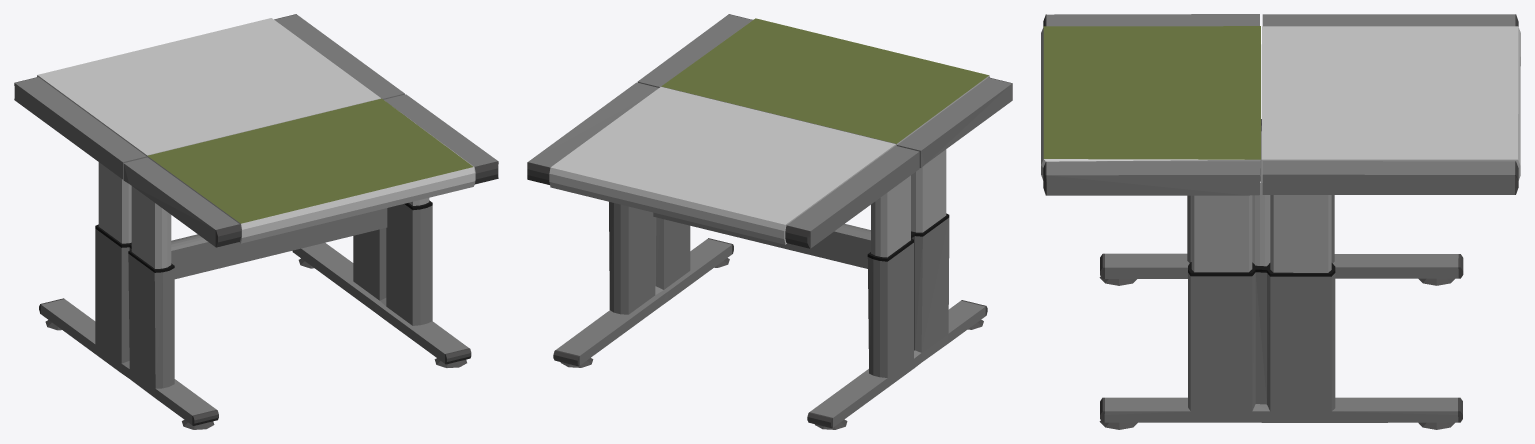
File: technicalTable2.obj
3 renders of one model, left to right at view 1: azimuth 30°, elevation 25°; view 2: azimuth 150°, elevation 25°; view 3: azimuth 270°, elevation 25°, orthographic. The views are drawn at different scales.
Visible parts, largest first — view 1: Print_board_Plane.003; view 2: Print_board_Plane.003; view 3: Print_board_Plane.003.
Boxes of the visible parts, left/top/right/bottom form: Print_board_Plane.003: left=14, top=14, right=498, bottom=429; Print_board_Plane.003: left=527, top=14, right=1012, bottom=429; Print_board_Plane.003: left=1041, top=14, right=1520, bottom=429.
Bounding box in the file's own units: 137 × 101 × 171.
